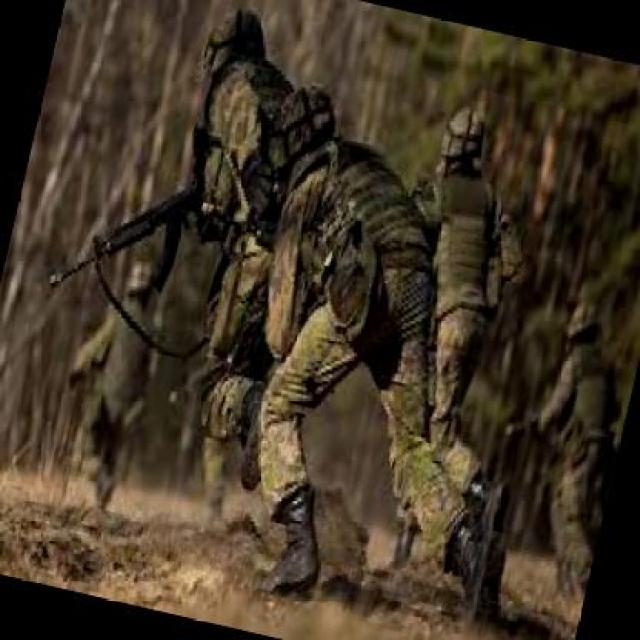MIL_Pax: (167, 75, 478, 616), (119, 2, 339, 443), (349, 95, 543, 523), (509, 298, 638, 574), (52, 254, 163, 508)
